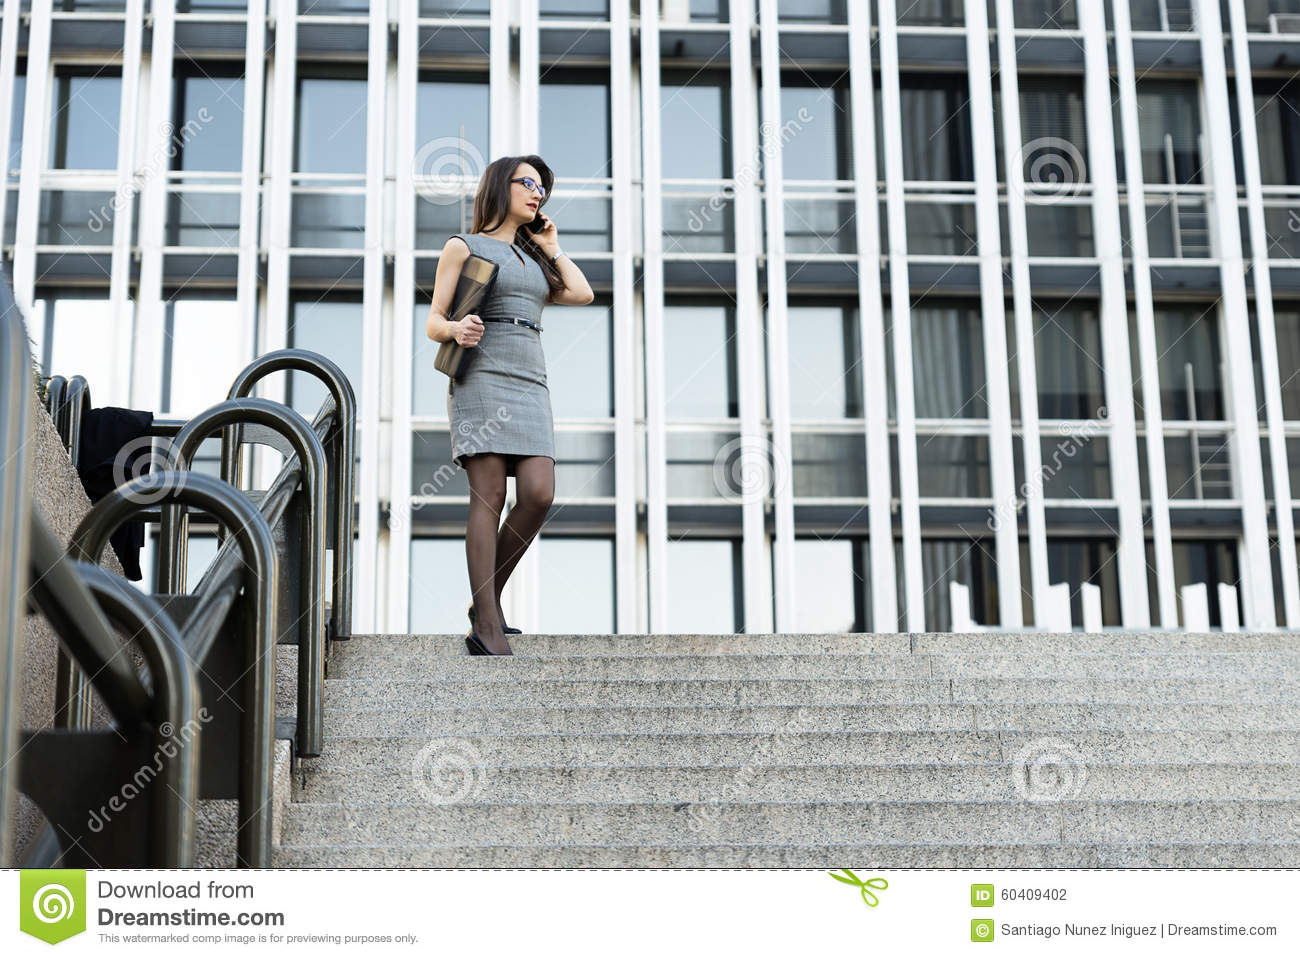talk: (517, 175, 555, 246)
